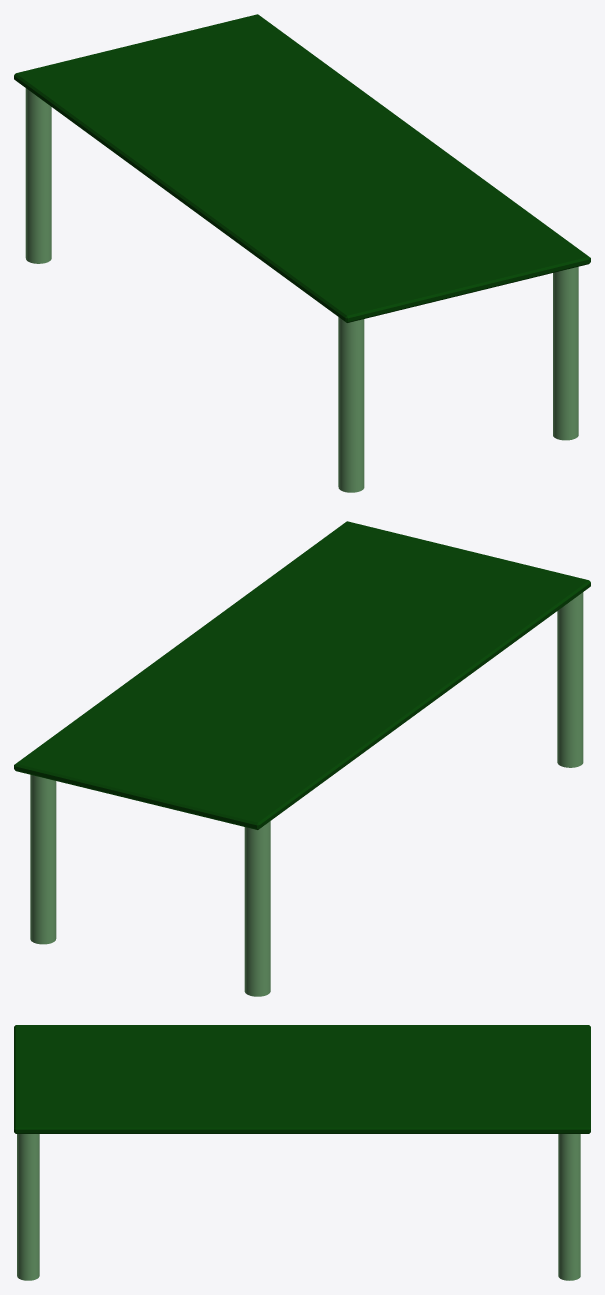
The model's file is Desk_01.fbx.
3 views of the same model, one above another, from view 1: azimuth 30°, elevation 25°; view 2: azimuth 150°, elevation 25°; view 3: azimuth 270°, elevation 25° (orthographic). The views are drawn at different scales.
Parts seen in each view (by area): view 1: pCube114, pCylinder3, pCylinder4, pCylinder2; view 2: pCube114, pCylinder4, pCylinder5, pCylinder3; view 3: pCube114, pCylinder5, pCylinder2.
Boxes of the visible parts, x1=… form: pCube114: x1=14, y1=14, x2=590, y2=322; pCylinder3: x1=338, y1=317, x2=364, y2=492; pCylinder4: x1=25, y1=88, x2=51, y2=263; pCylinder2: x1=553, y1=266, x2=578, y2=440; pCube114: x1=14, y1=521, x2=590, y2=829; pCylinder4: x1=244, y1=821, x2=270, y2=996; pCylinder5: x1=30, y1=774, x2=56, y2=944; pCylinder3: x1=557, y1=592, x2=583, y2=767; pCube114: x1=14, y1=1025, x2=590, y2=1133; pCylinder5: x1=558, y1=1134, x2=580, y2=1280; pCylinder2: x1=17, y1=1134, x2=39, y2=1280.
Bounding box in the file's own units: 1.83 × 1.28 × 4.29.
